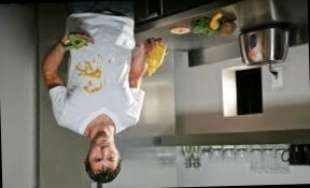mustard: (74, 57, 105, 80), (83, 81, 105, 95), (109, 58, 114, 64)
